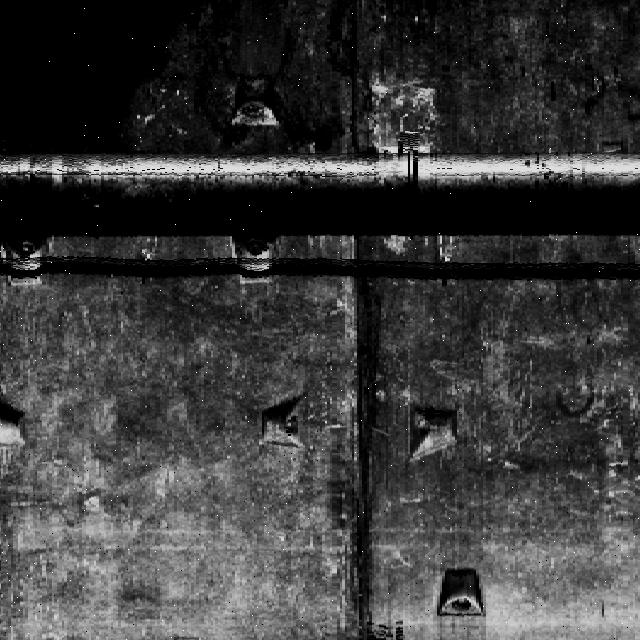leakage: (7, 1, 193, 252)
